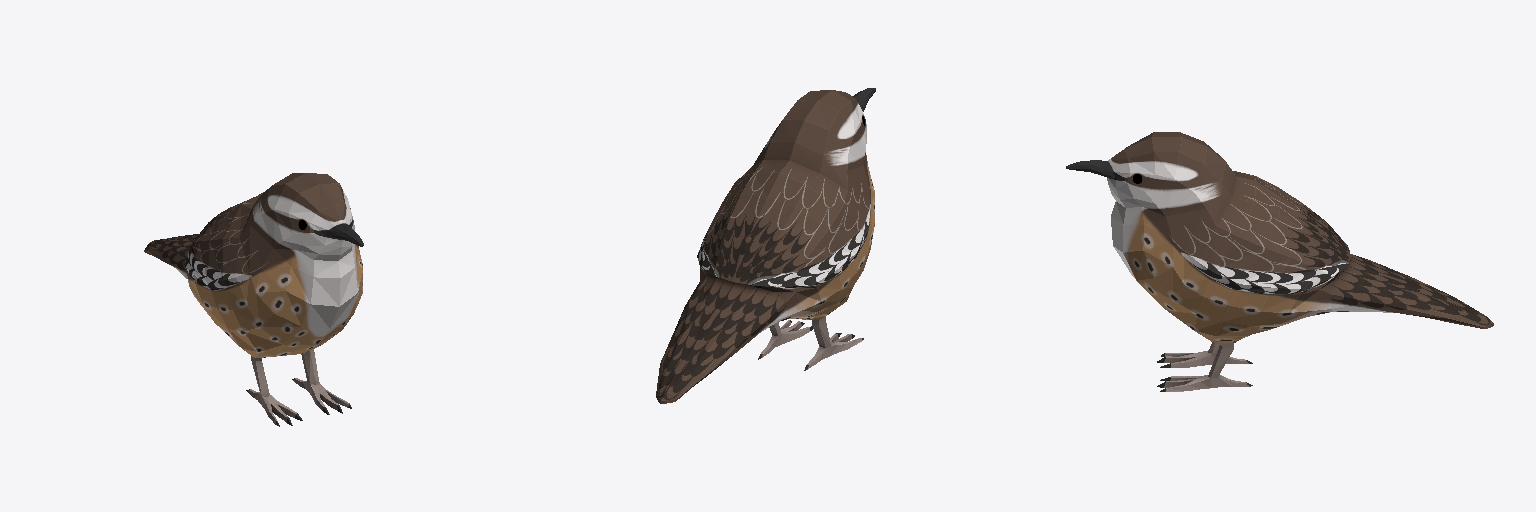
3 renders of one model, left to right at view 1: azimuth 30°, elevation 25°; view 2: azimuth 150°, elevation 25°; view 3: azimuth 270°, elevation 25°, orthographic.
Parts seen in each view (by area): view 1: CactusWren_Mesh; view 2: CactusWren_Mesh; view 3: CactusWren_Mesh.
Part boxes in pixels (bbox=[...]): CactusWren_Mesh: bbox=[144, 173, 363, 426]; CactusWren_Mesh: bbox=[656, 88, 875, 403]; CactusWren_Mesh: bbox=[1066, 132, 1493, 391].
Size of the model in its own units: 0.6622 by 1.1 by 1.78.
1 materials, 1 textured.